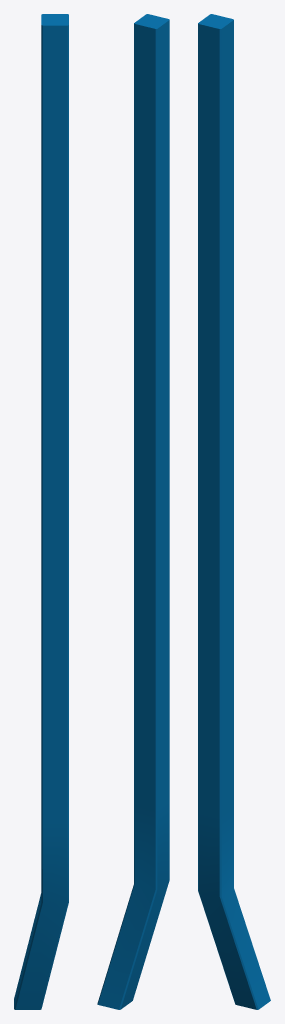
Rendered from M_Column_Bent_1x20.fbx.
The picture shows the model from 3 angles, left to right: view 1: azimuth 90°, elevation 25°; view 2: azimuth 150°, elevation 25°; view 3: azimuth 330°, elevation 25°; orthographic projection.
Visible parts, largest first — view 1: Column_Bent_1x20; view 2: Column_Bent_1x20; view 3: Column_Bent_1x20.
Part boxes in pixels (x1,y1,x2,y2): Column_Bent_1x20: (14, 14, 68, 1009); Column_Bent_1x20: (97, 14, 169, 1009); Column_Bent_1x20: (198, 14, 270, 1009).
Bounding box in the file's own units: 100 × 2000 × 100.
